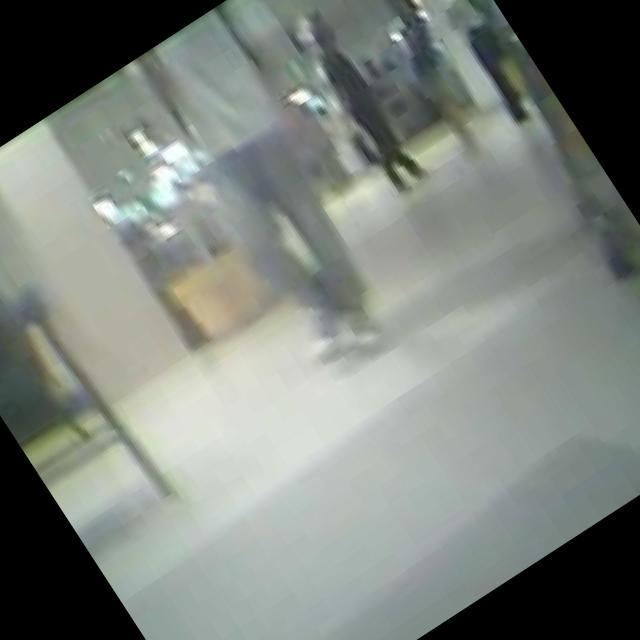person: (111, 0, 451, 382), (287, 6, 435, 200), (0, 196, 86, 440)
